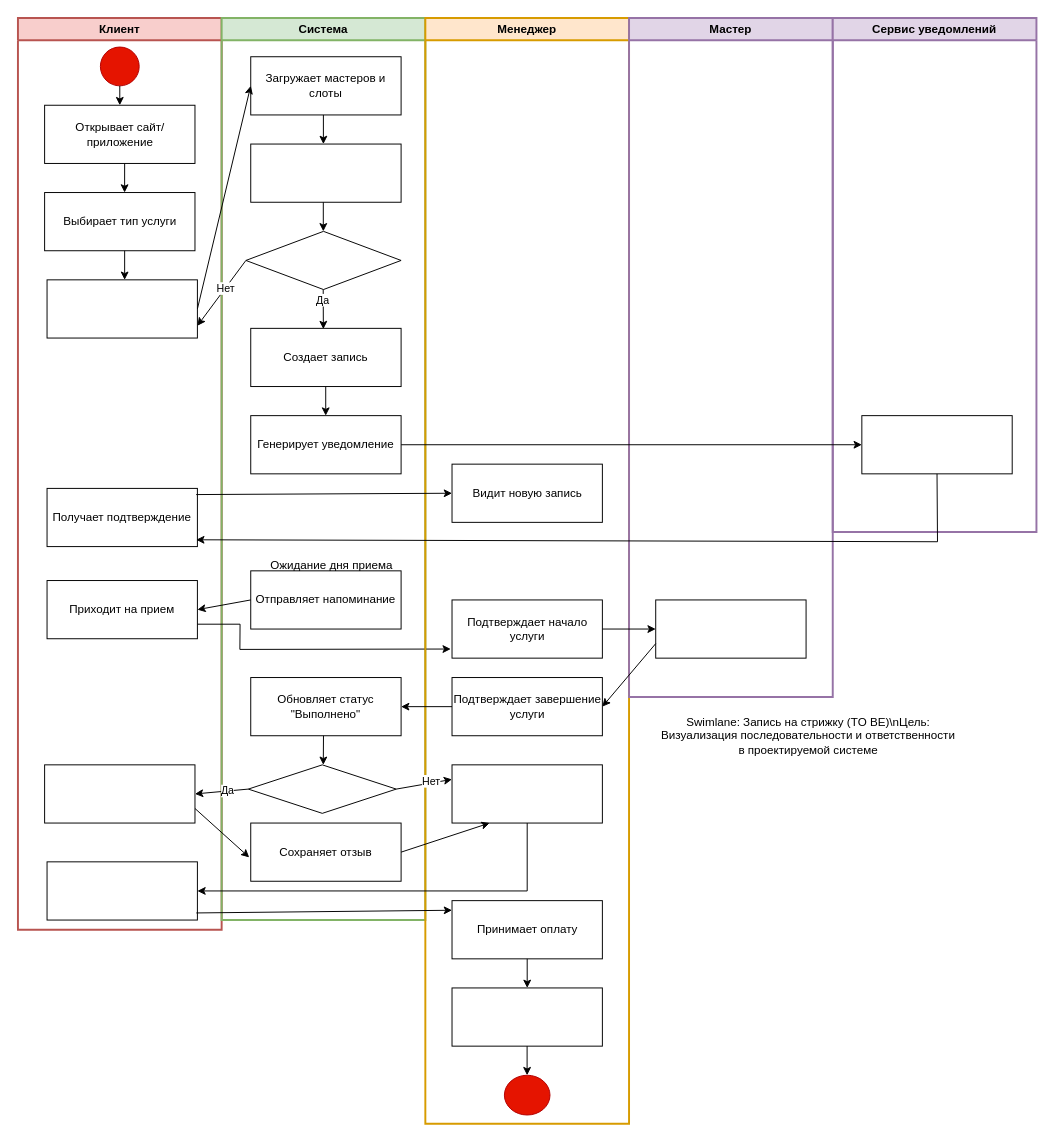
Some shapes in this 1053 by 1141 pixel diagram are drawn without their labels. Here are the shapes that lost their labels. From the top down, the centre of each, then its label:
pixel 325 172: Проверяет доступность мастера
pixel 323 260: Досутупен?
pixel 121 308: Выбирает услугу, мастера, время
pixel 936 444: Отправляет подтверждение клиенту и менеджеру
pixel 730 628: Оказывает услугу
pixel 119 793: Оставляет оценку и отзыв
pixel 321 788: Оставить оценку?
pixel 526 793: Начисление оплаты
pixel 121 890: Проведение оплаты
pixel 526 1016: Передача данных в бухгалтерию
